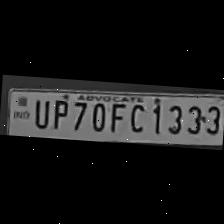0: (86, 97, 108, 132)
1: (146, 100, 164, 134)
3: (202, 100, 222, 136), (164, 100, 184, 135), (184, 100, 204, 135)
7: (68, 96, 88, 132)
C: (124, 98, 146, 134)
F: (106, 98, 125, 134)
P: (48, 95, 70, 130)
U: (30, 95, 50, 129)
